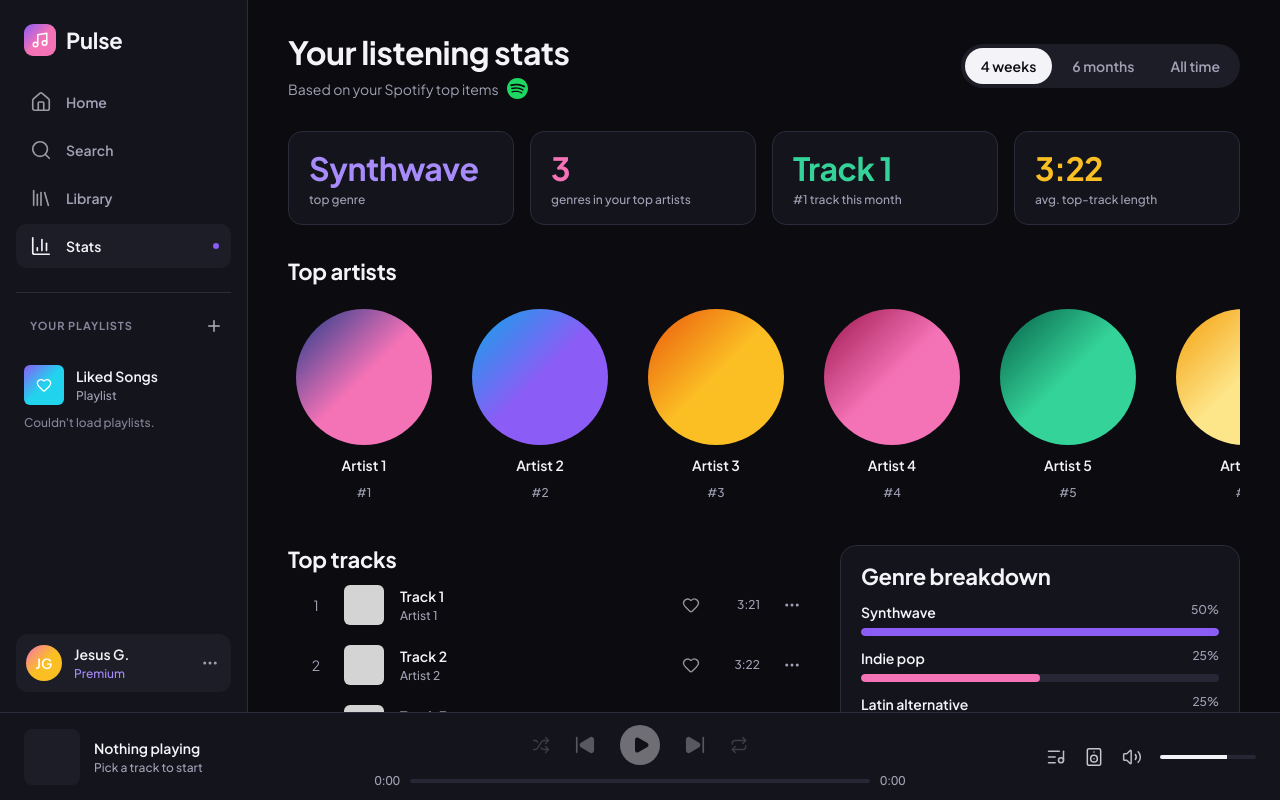
Test case: StatsPage › switches time range with the segmented control (and keyboard)
Later steps or results of the test are not shown.
Click the radio button labelled "All time".
click(1195, 66)  # box [1154,48,1236,84]
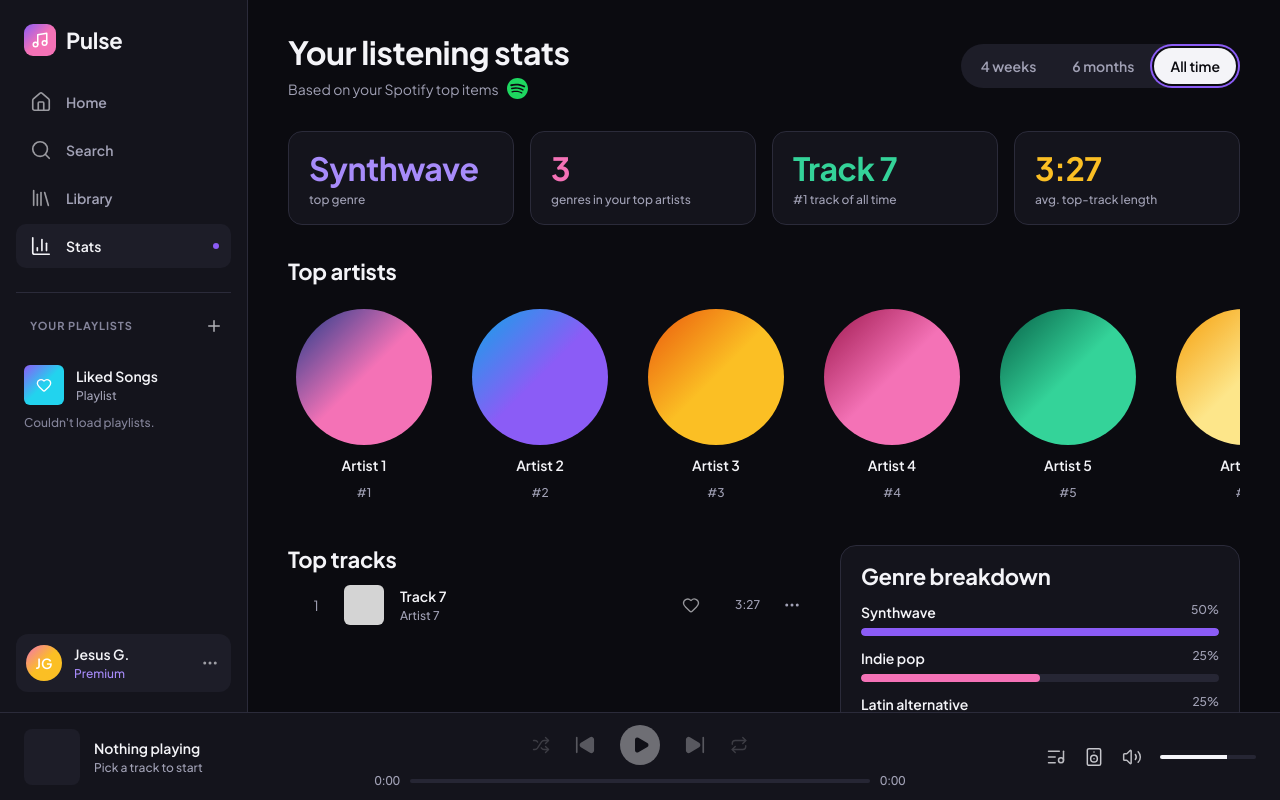
Expected: the text "#1 track of all time" is shown, [793,192,897,207]
